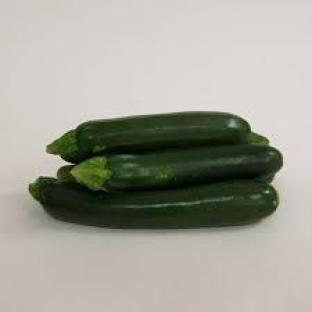Zucchini: (30, 178, 278, 228), (46, 113, 250, 163), (71, 145, 282, 189), (57, 166, 76, 183), (249, 132, 269, 144)
